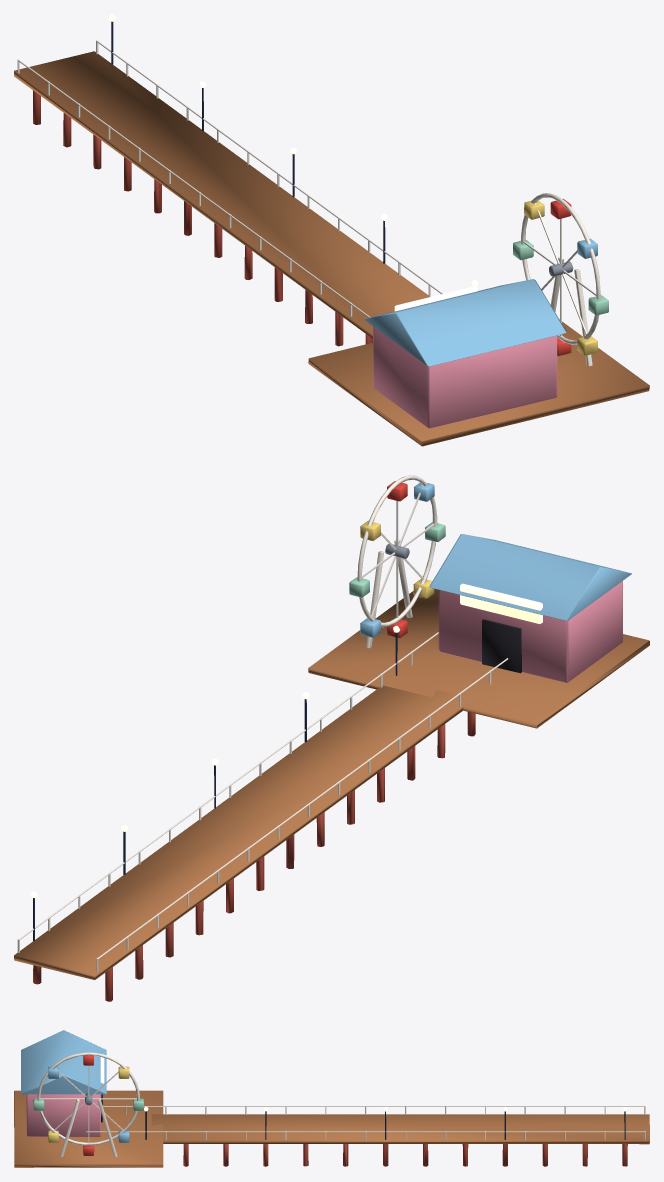
Rendered from pier.glb.
The picture shows the model from 3 angles, top to bottom: view 1: azimuth 30°, elevation 25°; view 2: azimuth 150°, elevation 25°; view 3: azimuth 270°, elevation 25°; orthographic projection. The views are drawn at different scales.
Parts seen in each view (by area): view 1: pier.004, wheel.004, legs; view 2: pier.004, wheel.004, legs; view 3: pier.004, wheel.004, legs.
Boxes of the visible parts, left/top/right/bottom form: pier.004: left=14, top=14, right=649, bottom=446; wheel.004: left=513, top=193, right=608, bottom=355; legs: left=550, top=257, right=592, bottom=366; pier.004: left=14, top=534, right=649, bottom=1001; wheel.004: left=349, top=475, right=445, bottom=637; legs: left=366, top=539, right=412, bottom=648; pier.004: left=14, top=1030, right=649, bottom=1167; wheel.004: left=33, top=1052, right=143, bottom=1155; legs: left=60, top=1098, right=117, bottom=1156.
Bounding box in the file's own units: 13.98 × 11.3 × 50.99.
1 material, 1 textured.
